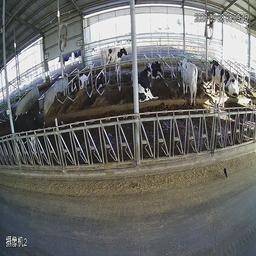cow: (178, 52, 201, 110), (100, 37, 129, 80), (207, 52, 227, 112), (141, 63, 158, 106), (66, 66, 88, 98), (230, 69, 242, 101), (92, 68, 106, 94), (151, 55, 166, 79)
